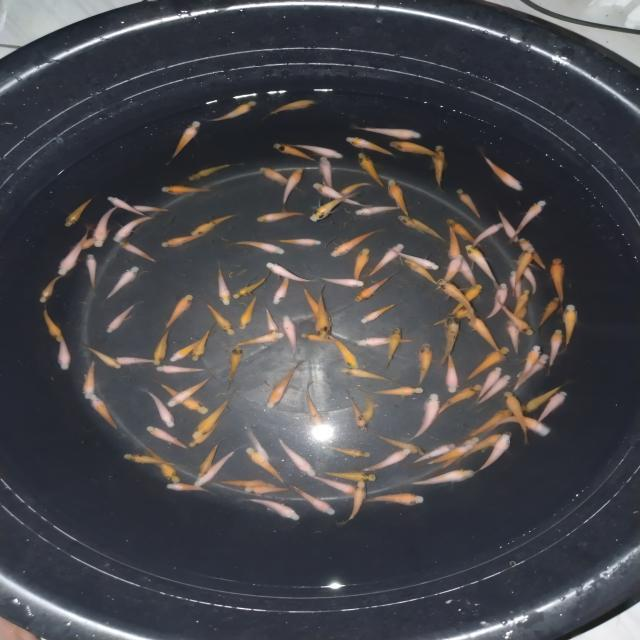nila: (457, 404, 517, 442), (264, 360, 308, 410), (191, 391, 236, 438), (503, 199, 550, 244), (154, 378, 212, 414), (470, 431, 513, 479), (192, 448, 242, 489), (502, 388, 537, 446), (466, 314, 511, 358), (53, 227, 92, 276), (240, 494, 302, 524), (394, 212, 448, 246), (519, 380, 570, 416), (245, 446, 288, 488), (331, 225, 384, 259), (362, 242, 407, 282), (352, 268, 402, 304), (438, 274, 476, 320), (308, 476, 372, 503), (168, 330, 220, 363), (165, 375, 214, 410), (300, 283, 338, 328), (434, 436, 479, 474), (276, 437, 316, 479), (86, 391, 125, 434), (292, 482, 336, 520), (464, 243, 501, 288), (434, 382, 484, 414), (166, 120, 200, 167), (311, 180, 368, 208), (468, 346, 512, 382), (508, 344, 543, 389), (310, 190, 359, 222), (390, 139, 448, 166), (197, 300, 236, 340), (510, 352, 548, 393), (260, 98, 324, 122), (456, 432, 504, 464), (144, 444, 182, 484), (102, 266, 142, 304), (496, 298, 536, 336), (517, 234, 553, 276), (312, 284, 337, 344), (384, 246, 441, 272), (403, 468, 477, 488), (415, 443, 471, 469), (410, 392, 440, 440), (142, 388, 177, 429), (444, 282, 486, 316), (91, 203, 122, 249), (291, 139, 348, 164), (401, 256, 444, 289), (358, 448, 412, 474), (326, 333, 362, 372), (188, 212, 242, 238), (346, 123, 424, 141), (337, 481, 368, 526), (492, 416, 550, 440), (194, 438, 226, 481), (264, 260, 321, 284), (535, 389, 571, 427), (268, 139, 318, 166), (144, 424, 192, 452), (105, 193, 153, 221), (162, 292, 196, 331), (344, 135, 397, 160), (112, 215, 156, 245), (384, 177, 414, 221), (442, 217, 483, 249), (185, 160, 244, 182), (204, 98, 258, 122), (510, 244, 534, 298), (430, 254, 462, 294), (257, 166, 303, 193), (359, 489, 432, 506), (83, 340, 123, 371), (451, 253, 482, 293), (228, 272, 273, 299), (302, 382, 327, 430), (190, 322, 220, 362), (356, 150, 386, 190), (404, 442, 454, 466), (63, 193, 98, 227), (233, 291, 262, 332), (514, 257, 542, 299), (377, 434, 430, 456), (478, 373, 513, 406), (279, 166, 305, 210), (441, 316, 462, 370), (344, 389, 369, 434), (466, 220, 506, 248), (548, 254, 568, 310), (104, 303, 140, 334), (428, 306, 474, 330), (119, 239, 161, 265), (356, 302, 398, 328), (454, 188, 484, 224), (475, 365, 504, 402), (483, 282, 508, 324), (234, 330, 286, 350), (224, 240, 288, 256), (120, 451, 180, 468), (150, 363, 218, 378), (150, 328, 176, 367), (210, 262, 233, 306), (494, 207, 521, 244), (52, 325, 72, 373), (160, 231, 208, 251), (416, 340, 435, 390), (120, 200, 179, 216), (441, 348, 461, 394), (280, 312, 299, 360), (561, 303, 578, 356), (316, 154, 336, 199), (227, 344, 246, 391), (352, 246, 374, 286), (271, 266, 294, 304), (352, 334, 414, 348), (502, 316, 522, 359), (537, 296, 559, 334), (323, 445, 372, 462), (166, 482, 217, 498), (351, 204, 402, 220), (430, 144, 447, 192), (546, 327, 562, 378), (38, 275, 66, 304), (158, 184, 216, 198), (41, 304, 62, 342), (190, 421, 218, 449), (248, 210, 304, 224), (246, 429, 268, 464), (260, 302, 281, 338), (384, 326, 402, 368), (81, 356, 98, 400), (445, 223, 462, 267), (318, 275, 367, 290), (322, 469, 378, 482), (296, 332, 348, 346), (506, 290, 528, 323), (340, 366, 390, 380), (67, 238, 96, 262), (219, 478, 278, 489), (358, 388, 376, 424), (332, 184, 377, 198), (84, 250, 98, 294), (506, 269, 524, 303), (278, 235, 324, 248), (238, 484, 296, 493), (112, 356, 164, 366), (376, 385, 427, 395), (514, 300, 530, 322)
